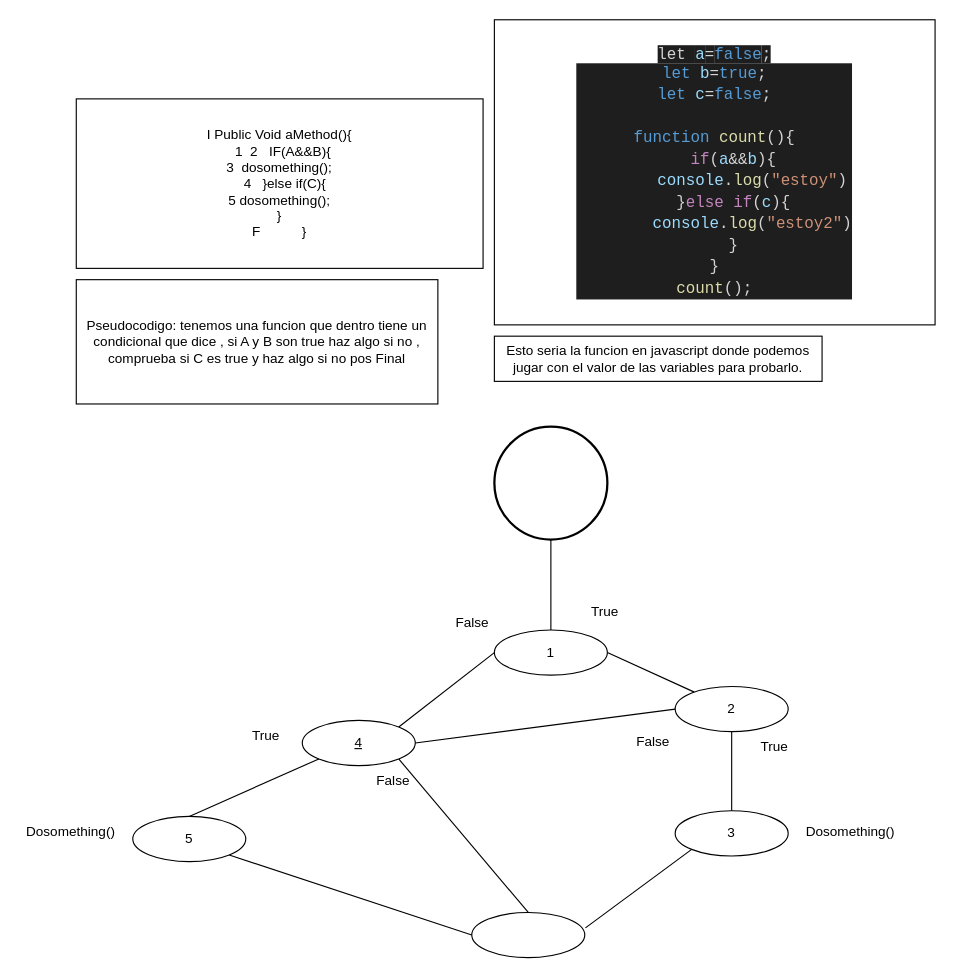
The diagram is 955 pixels wide and 977 high, and some of its shapes have lost their labels. The shapes that lost their labels are listed below. From the top down, each one's centre as x and y in pixels, then its label:
the point at 550,482: INICIO
the point at 528,934: Final
